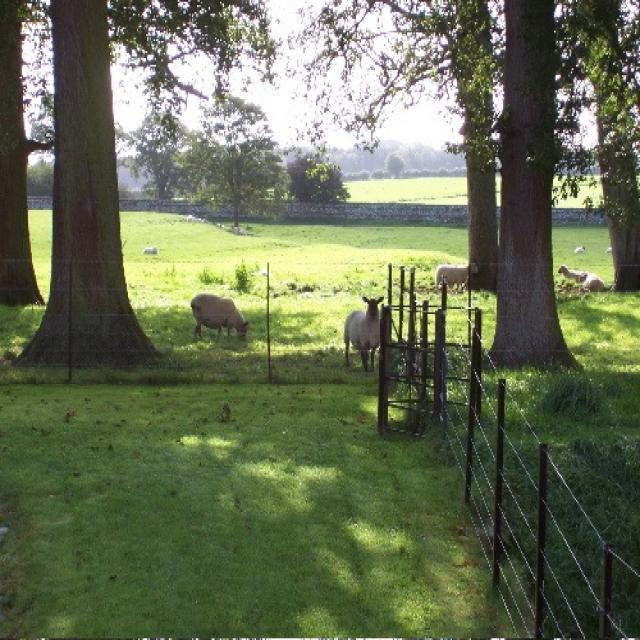sheep: (344, 295, 386, 374), (190, 292, 250, 343), (435, 261, 471, 294), (557, 263, 590, 285), (143, 244, 159, 256), (575, 244, 586, 253)
